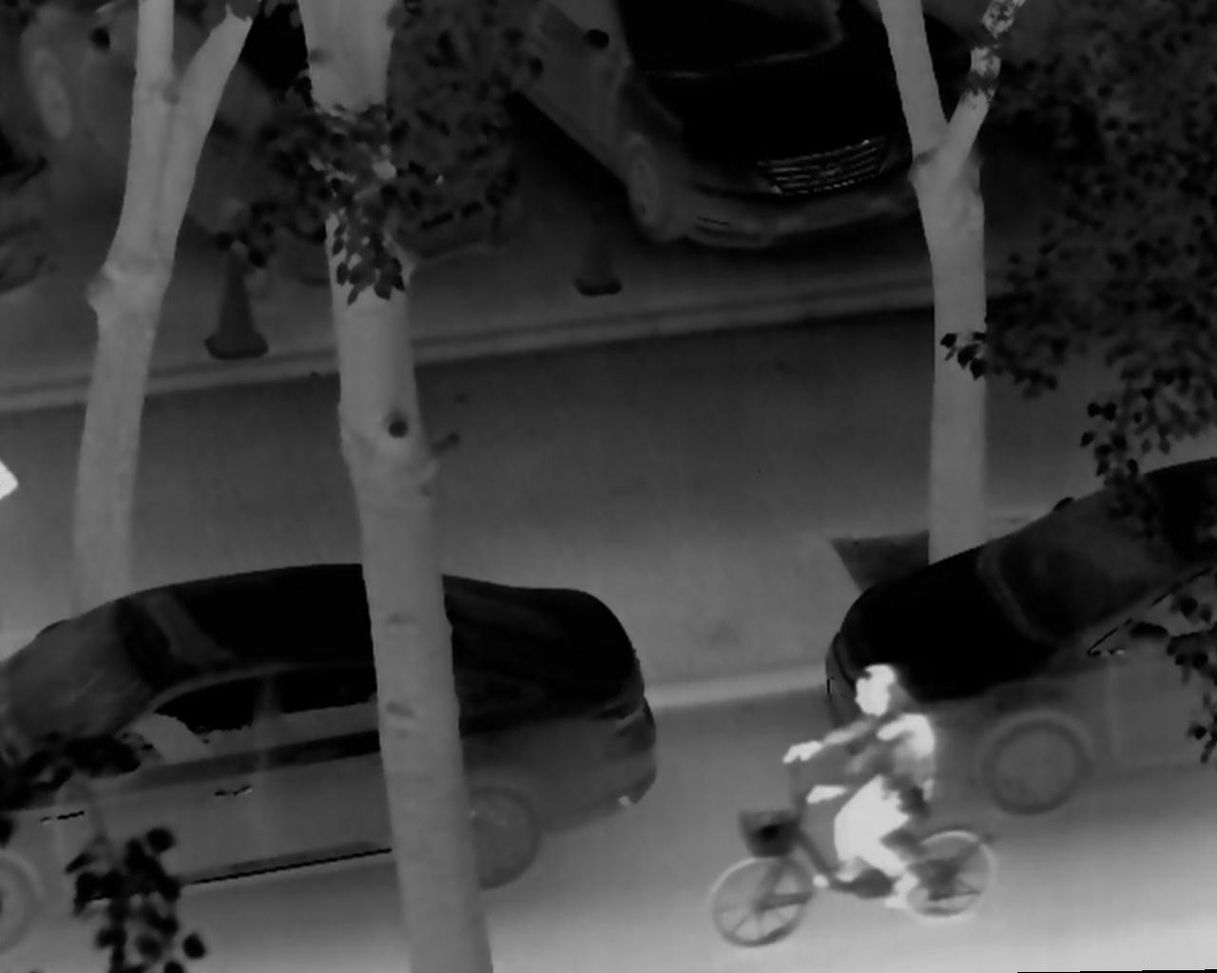person: (781, 659, 937, 912)
